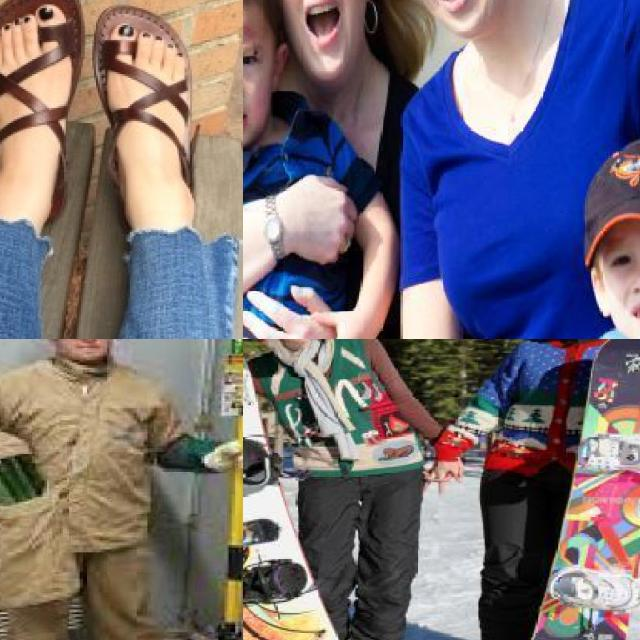Sandals: (91, 3, 195, 244), (0, 0, 86, 217)
face_nomask: (270, 0, 364, 44), (600, 235, 640, 332), (243, 40, 267, 137)
hand_noglove: (275, 168, 361, 264), (243, 280, 342, 339), (306, 302, 375, 339), (427, 458, 472, 494)
head_nohelmet: (575, 132, 640, 239)
person: (368, 0, 640, 339), (0, 339, 243, 640), (243, 339, 436, 640), (455, 339, 640, 640), (243, 0, 383, 339), (553, 128, 640, 339)
